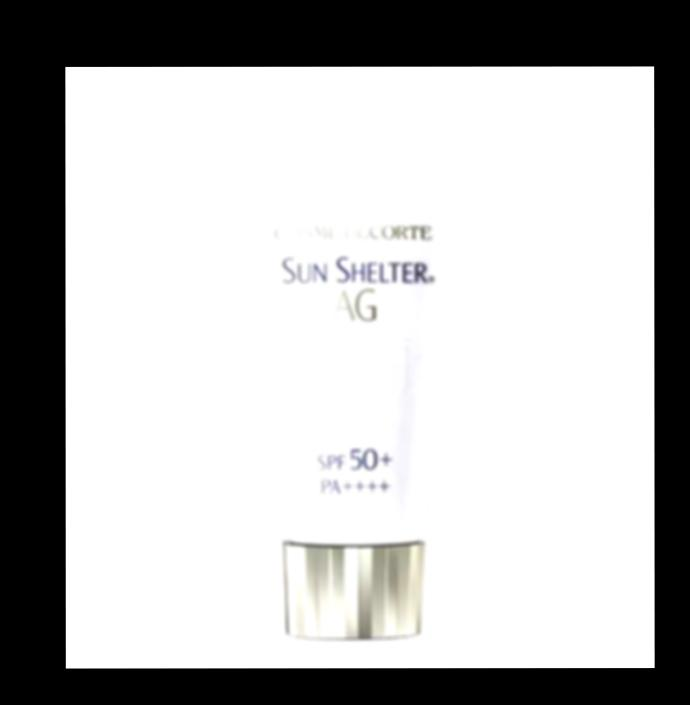cosmetic: (253, 112, 453, 641)
